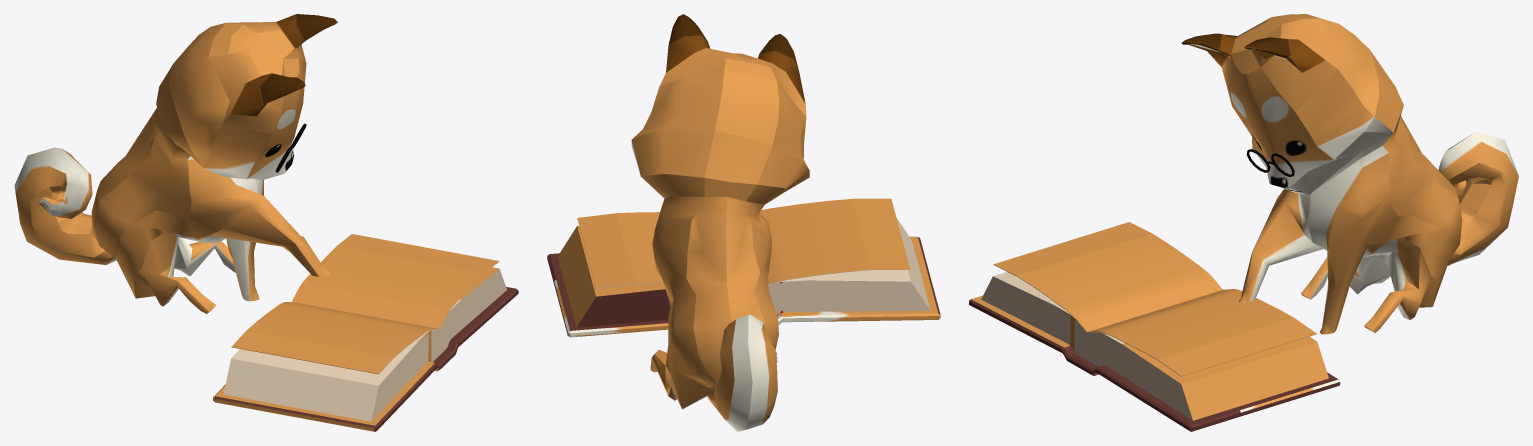
The model's file is book_frame48.obj.
The picture shows the model from 3 angles, left to right: view 1: azimuth 30°, elevation 25°; view 2: azimuth 150°, elevation 25°; view 3: azimuth 270°, elevation 25°; orthographic projection. The views are drawn at different scales.
Visible parts, largest first — view 1: StidyGlasses_Computer_Sitting:Sitting:newRigging:BodzL1, polySurface1; view 2: StidyGlasses_Computer_Sitting:Sitting:newRigging:BodzL1, polySurface1; view 3: StidyGlasses_Computer_Sitting:Sitting:newRigging:BodzL1, polySurface1.
Part boxes in pixels (x1,y1,x2,y2): StidyGlasses_Computer_Sitting:Sitting:newRigging:BodzL1: (14, 14, 337, 313); polySurface1: (213, 234, 518, 431); StidyGlasses_Computer_Sitting:Sitting:newRigging:BodzL1: (631, 14, 809, 431); polySurface1: (547, 198, 940, 337); StidyGlasses_Computer_Sitting:Sitting:newRigging:BodzL1: (1181, 14, 1518, 334); polySurface1: (969, 222, 1340, 431).
Size of the model in its own units: 8.91 by 7.05 by 11.33.
4 materials, 4 textured.
